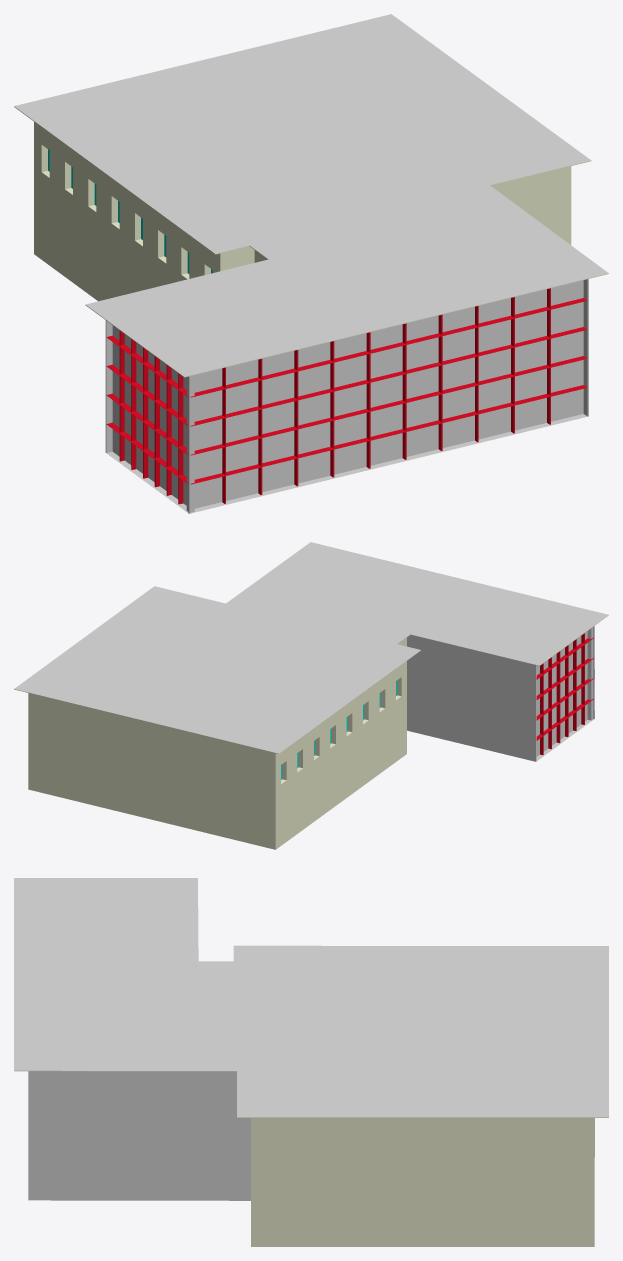
File: Fisher Library.fbx
The picture shows the model from 3 angles, top to bottom: view 1: azimuth 30°, elevation 25°; view 2: azimuth 150°, elevation 25°; view 3: azimuth 270°, elevation 25°; orthographic projection. The views are drawn at different scales.
Visible parts, largest first — view 1: Fisher Library; view 2: Fisher Library; view 3: Fisher Library.
Part boxes in pixels (x1=…): Fisher Library: x1=14, y1=14, x2=608, y2=513; Fisher Library: x1=14, y1=542, x2=608, y2=849; Fisher Library: x1=14, y1=878, x2=608, y2=1246.
Bounding box in the file's own units: 8146 × 2150 × 8564.
